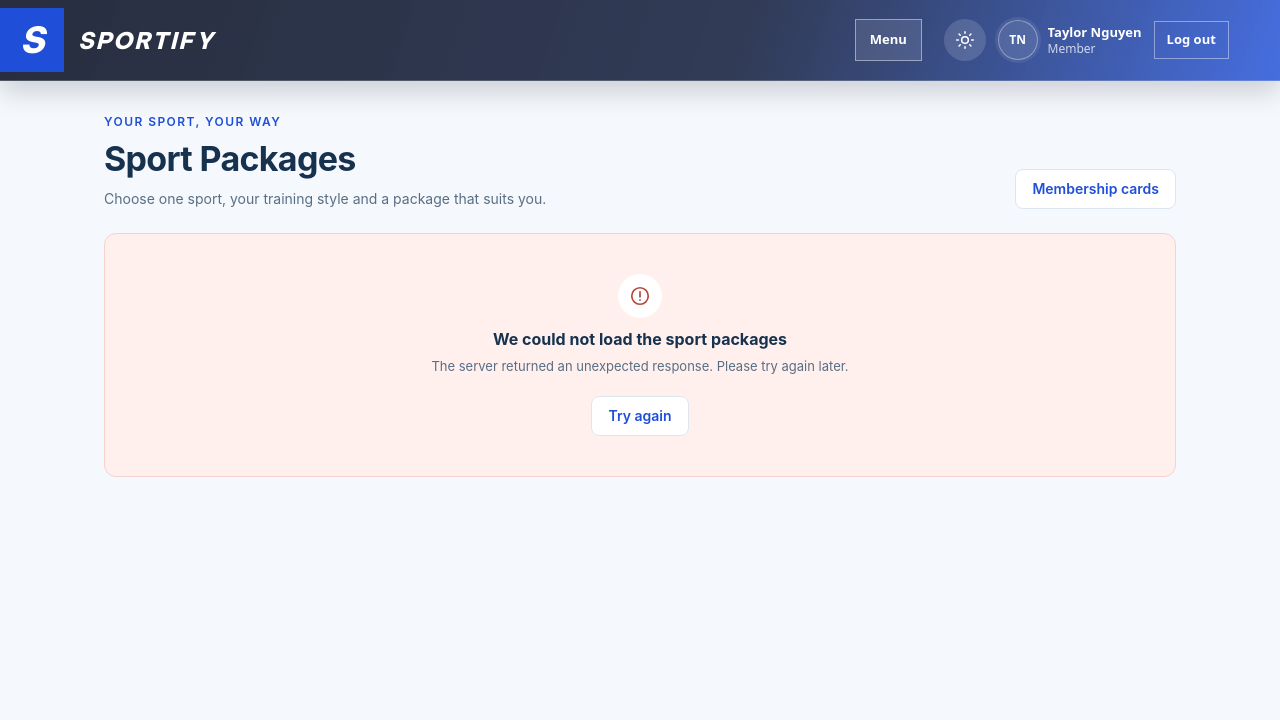
Test: DEF-001 DEF-002 resource errors retain routes and recover › DEF-001 contract review rejects null sessionCount and recovers after a valid response
Expected: the message shows "unexpected response", [431, 358, 849, 374]
Expected: the heading "Sport Packages" is shown, [104, 138, 356, 179]
Click the button "Try again" at [640, 416], box [592, 396, 689, 436]
(page scrolled)
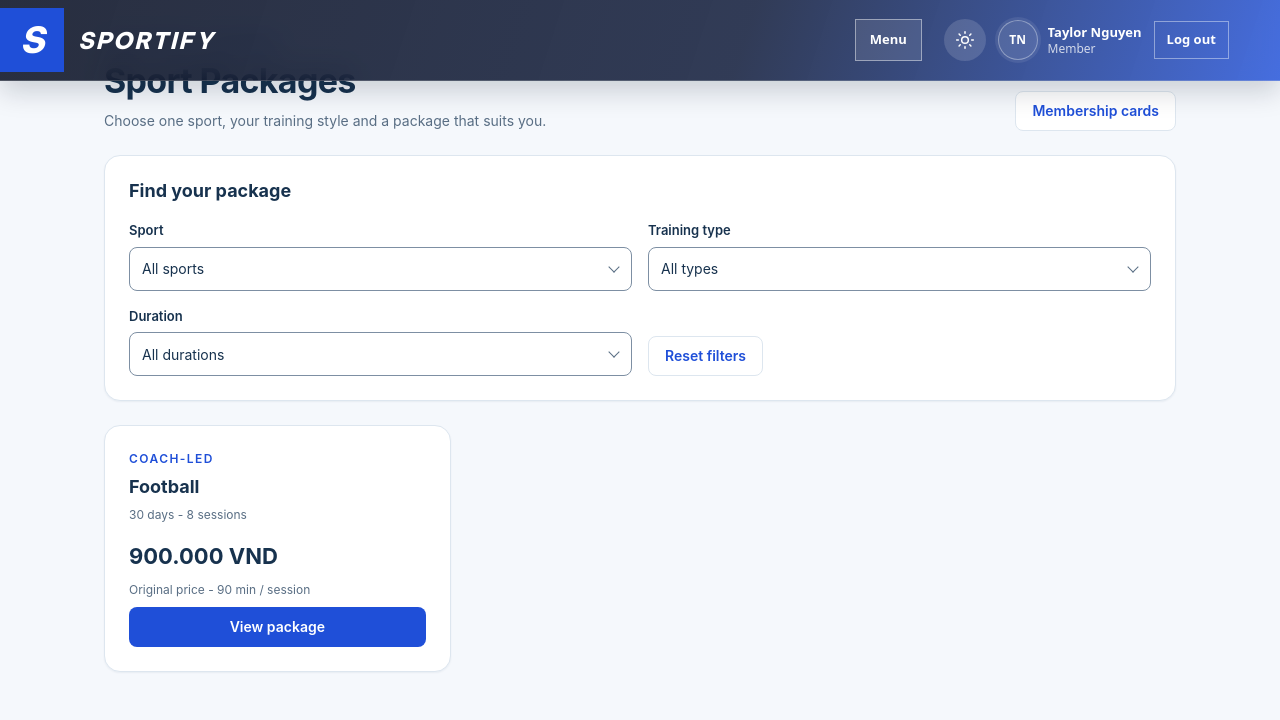
Result: the list named "Sport packages" is shown at [104, 425, 451, 672]
Result: the message is gone
